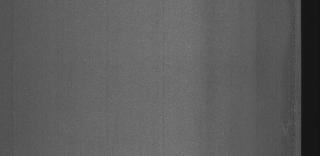silk spot: (282, 40, 298, 138)
